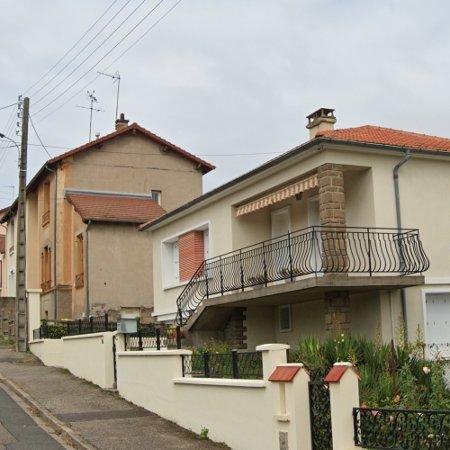chimneys: (307, 108, 335, 139), (115, 113, 129, 130)
